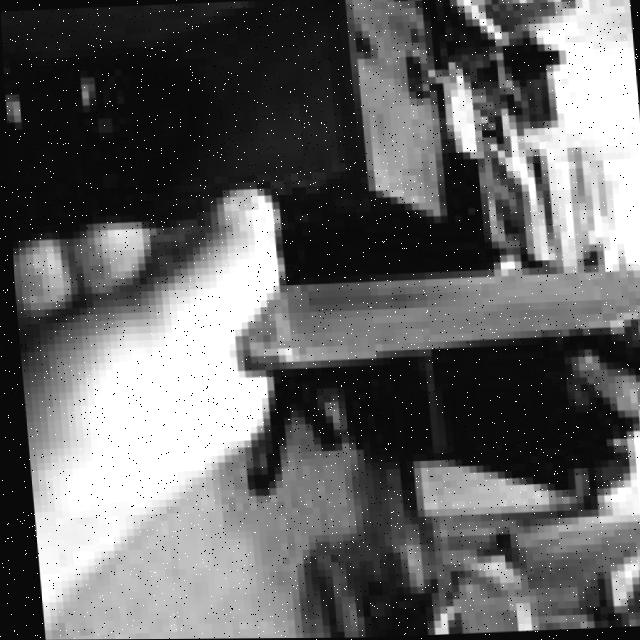knife: (246, 257, 640, 378)
